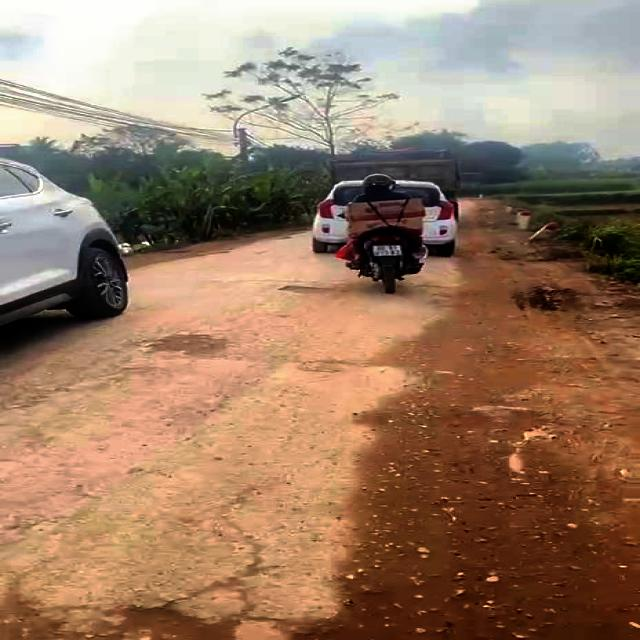pothole: (0, 591, 236, 640), (147, 332, 236, 361), (280, 282, 343, 298)
